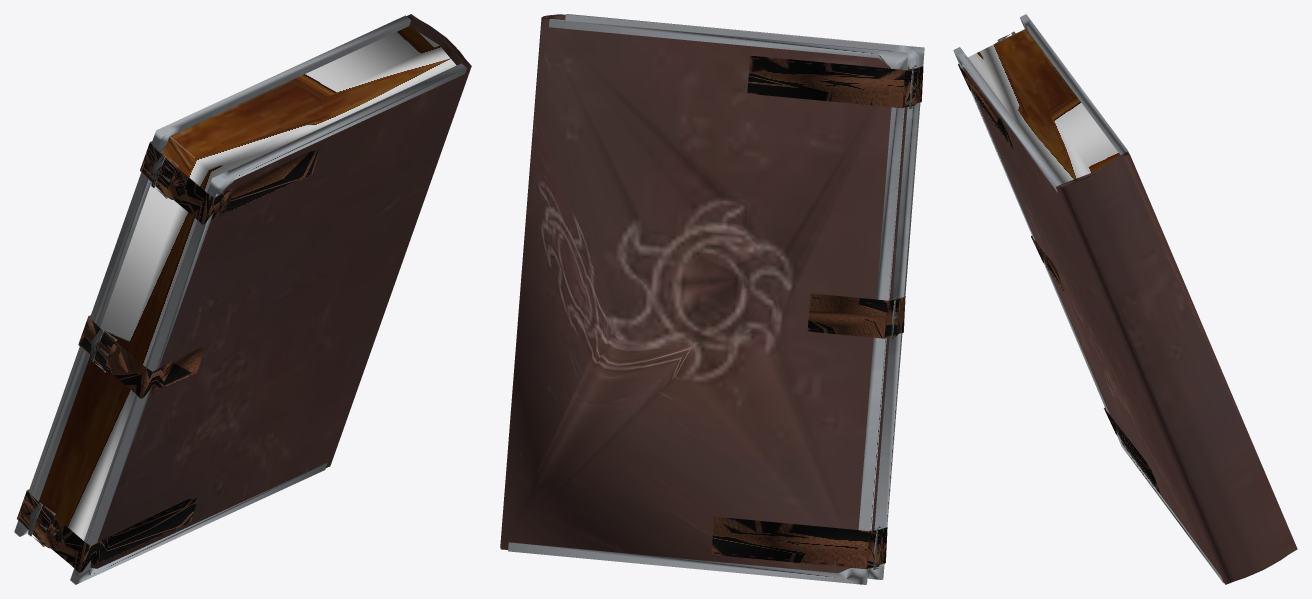
File: book.glb
3 views of the same model, side by side, from view 1: azimuth 30°, elevation 25°; view 2: azimuth 150°, elevation 25°; view 3: azimuth 270°, elevation 25° (orthographic). The views are drawn at different scales.
Size of the model in its own units: 551 by 668 by 468.
Materials: 7 (7 with a texture image).
